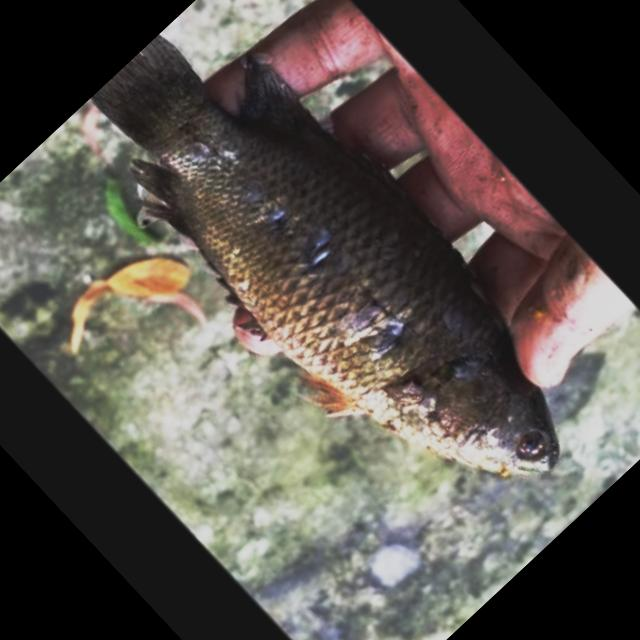Columnaris Disease: (88, 34, 556, 474)
